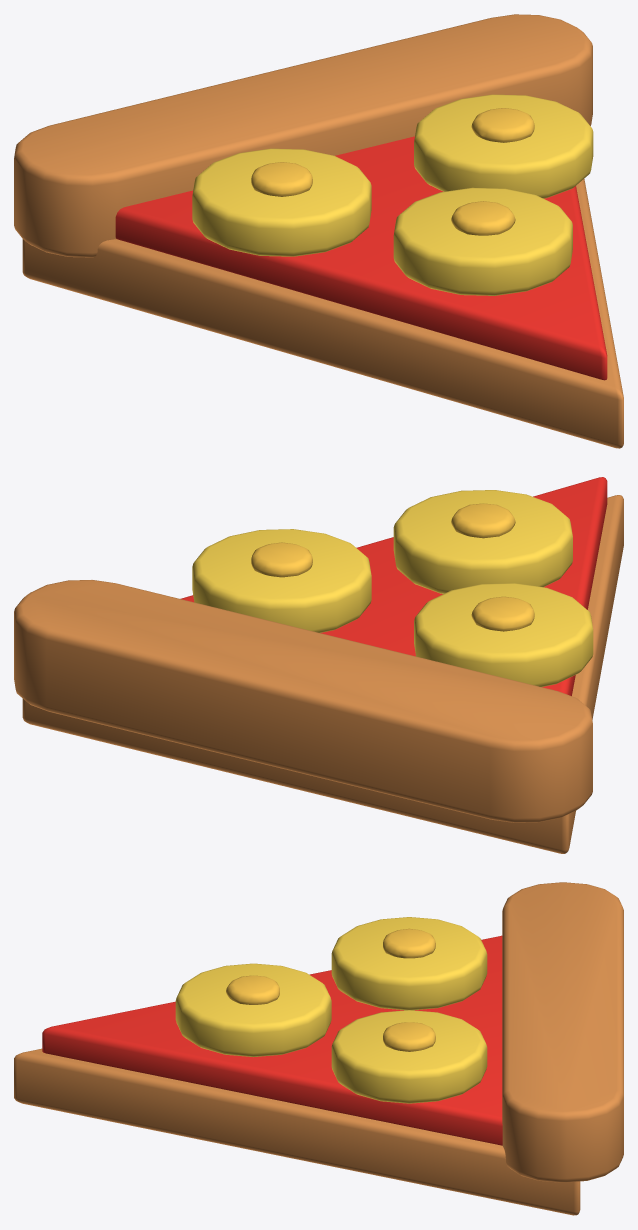
File: PR3D_PizzaSlice_Shared.fbx
3 views of the same model, one above another, from view 1: azimuth 30°, elevation 25°; view 2: azimuth 150°, elevation 25°; view 3: azimuth 270°, elevation 25° (orthographic). The views are drawn at different scales.
Parts seen in each view (by area): view 1: PR3D_PizzaSlice_Shared; view 2: PR3D_PizzaSlice_Shared; view 3: PR3D_PizzaSlice_Shared.
Part boxes in pixels (x1,y1,x2,y2): PR3D_PizzaSlice_Shared: [14, 14, 623, 448]; PR3D_PizzaSlice_Shared: [14, 477, 623, 853]; PR3D_PizzaSlice_Shared: [14, 882, 623, 1215].
Bounding box in the file's own units: 1.46 × 0.347 × 1.61.
